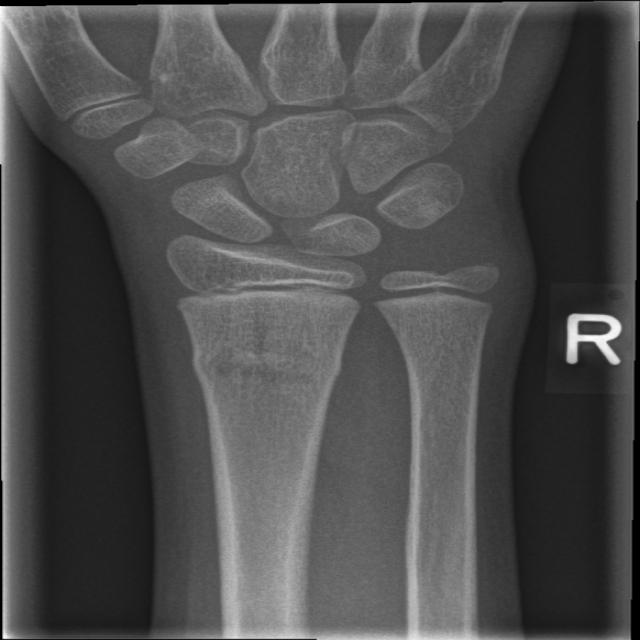radius fracture: (185, 326, 355, 416)
